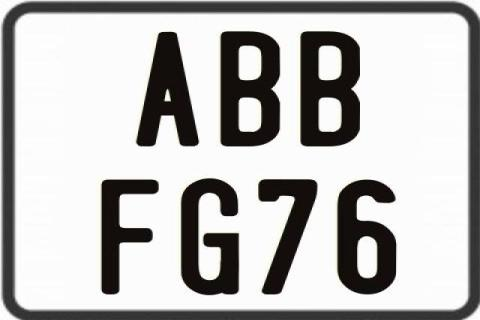0: (255, 178, 318, 298), (334, 179, 395, 297)
A: (135, 30, 200, 148)
B: (299, 30, 363, 150), (219, 32, 280, 150)
F: (100, 178, 162, 294)
G: (179, 177, 243, 296)
